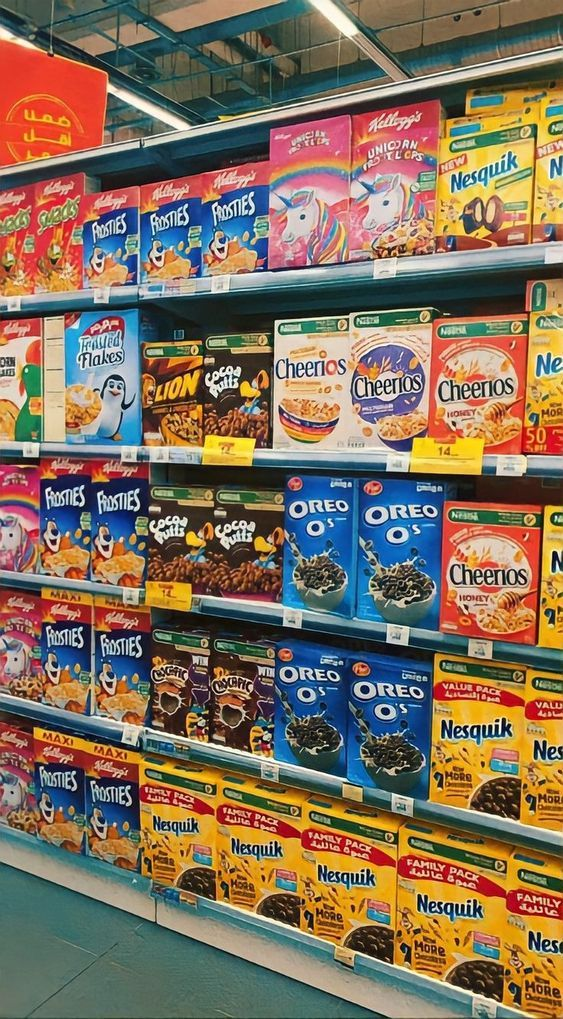Cheerios: (264, 308, 365, 409), (430, 334, 531, 435), (437, 527, 538, 628)
Cocoa Pulls: (193, 492, 294, 593)
Nesquik: (428, 685, 529, 786), (405, 858, 506, 959)
Oreo Os: (258, 636, 359, 737)
